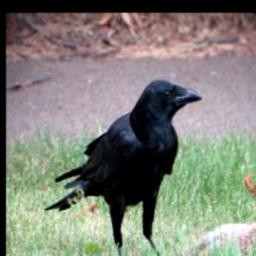Crow: (43, 77, 205, 256)
